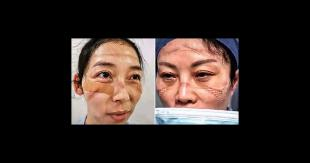mask_weared_incorrect: (158, 57, 229, 122)
without_mask: (91, 60, 142, 123)
